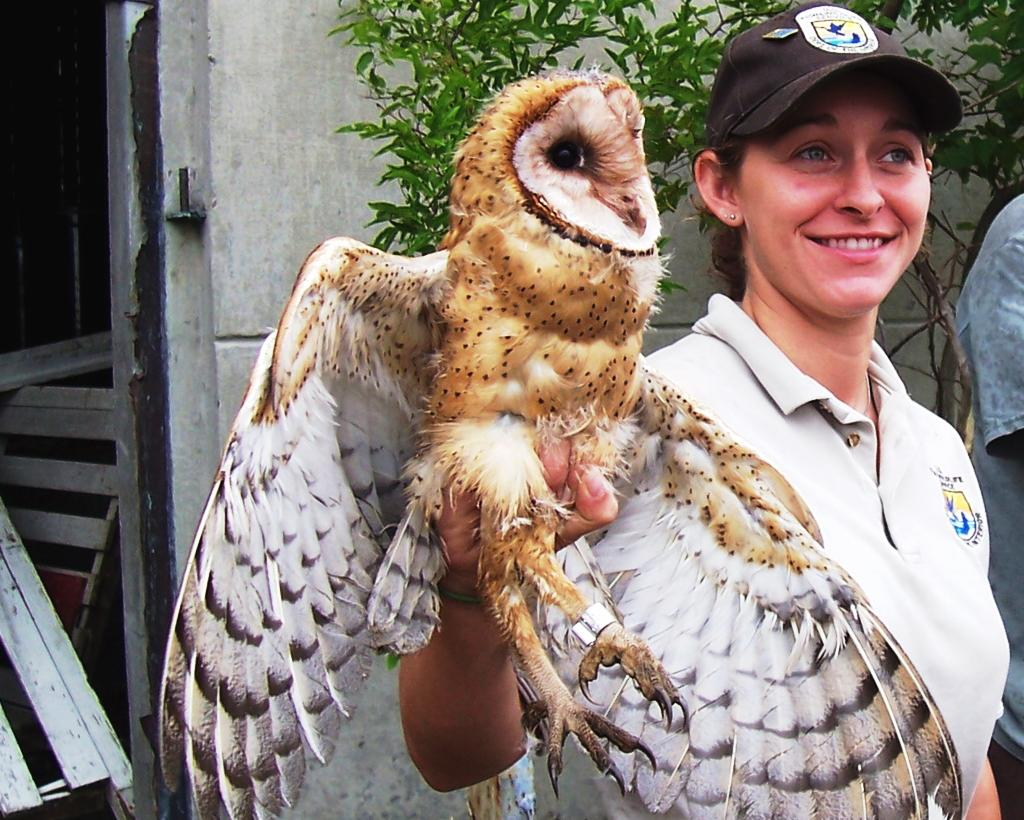Owl: (152, 64, 964, 820)
